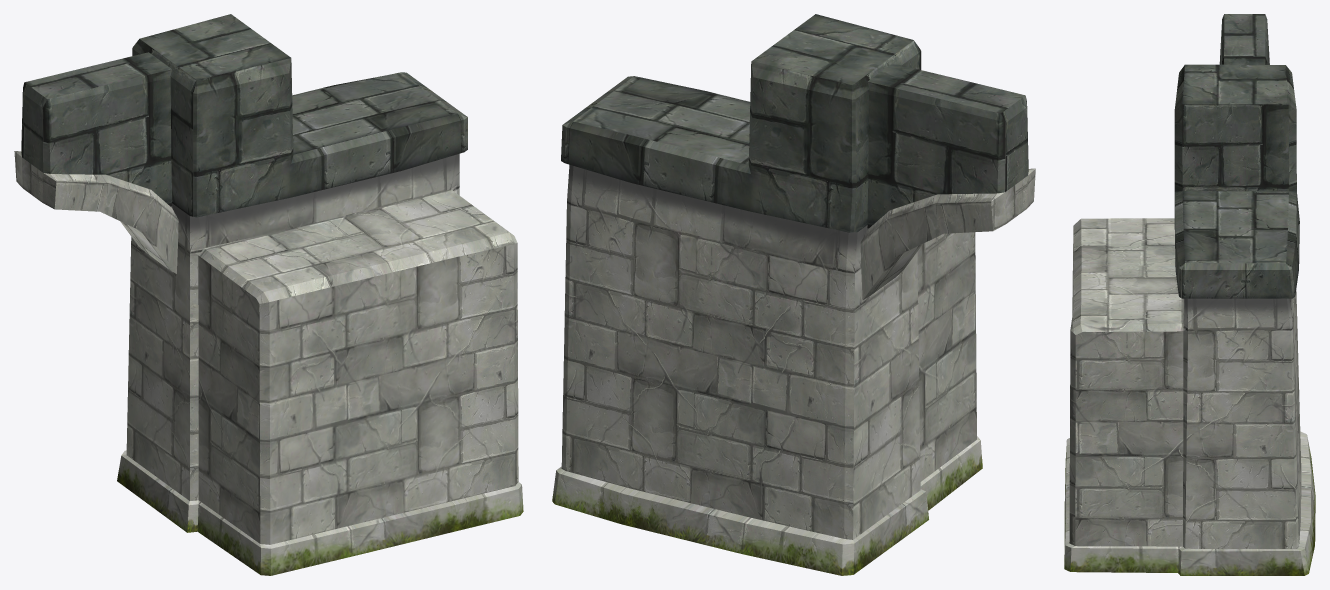
The model's file is Wall_Left_02.FBX.
3 views of the same model, side by side, from view 1: azimuth 30°, elevation 25°; view 2: azimuth 150°, elevation 25°; view 3: azimuth 270°, elevation 25° (orthographic). The views are drawn at different scales.
Parts seen in each view (by area): view 1: Wall_Left_02; view 2: Wall_Left_02; view 3: Wall_Left_02.
Part boxes in pixels (x1,y1,x2,y2): Wall_Left_02: (14,14,523,575); Wall_Left_02: (552,14,1035,575); Wall_Left_02: (1064,14,1315,575).
Bounding box in the file's own units: 221 × 237 × 136.
